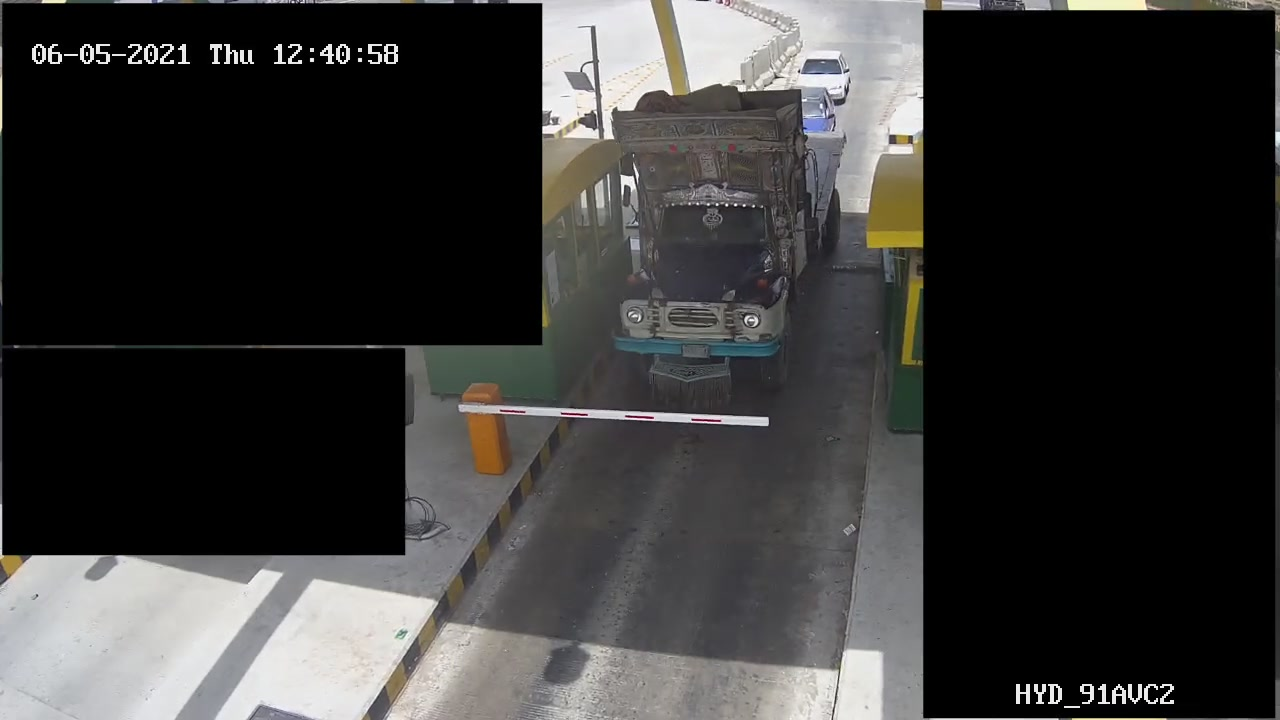F5: (609, 81, 843, 392)
